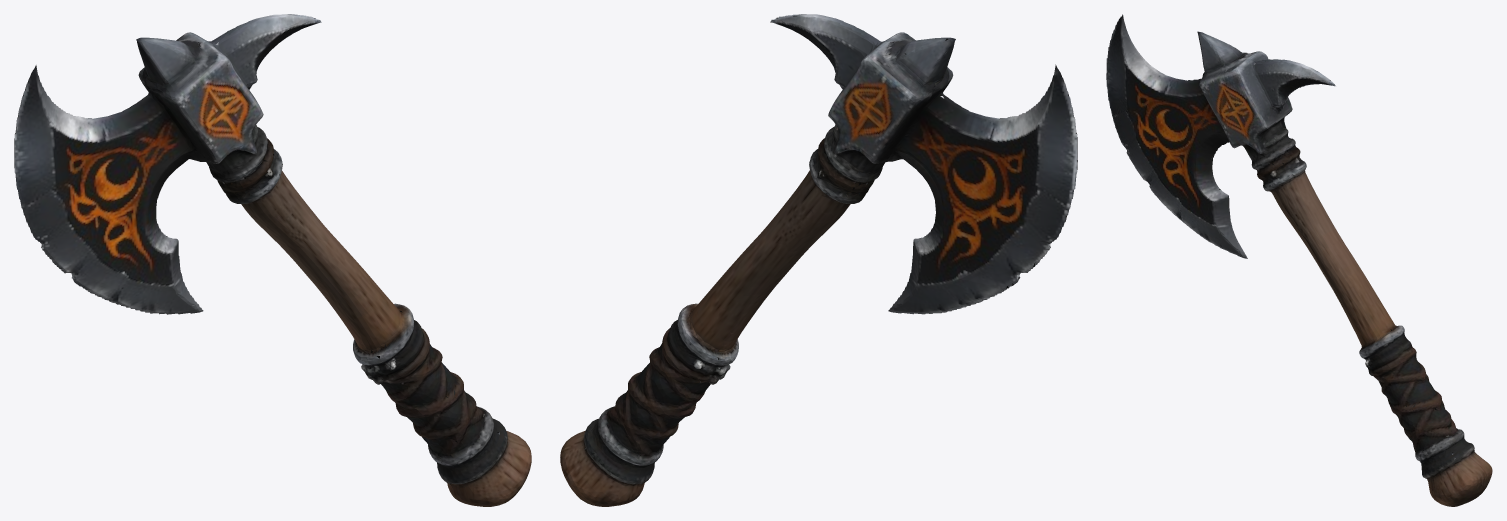
Rendered from axe.glb.
3 views of the same model, side by side, from view 1: azimuth 30°, elevation 25°; view 2: azimuth 150°, elevation 25°; view 3: azimuth 330°, elevation 25° (orthographic). The views are drawn at different scales.
Parts seen in each view (by area): view 1: axe; view 2: axe; view 3: axe.
Part boxes in pixels (x1,y1,x2,y2): axe: [14, 14, 531, 506]; axe: [560, 14, 1077, 506]; axe: [1106, 14, 1492, 506].
Size of the model in its own units: 1.01 by 1.03 by 0.1432.
Materials: 1 (1 with a texture image).
